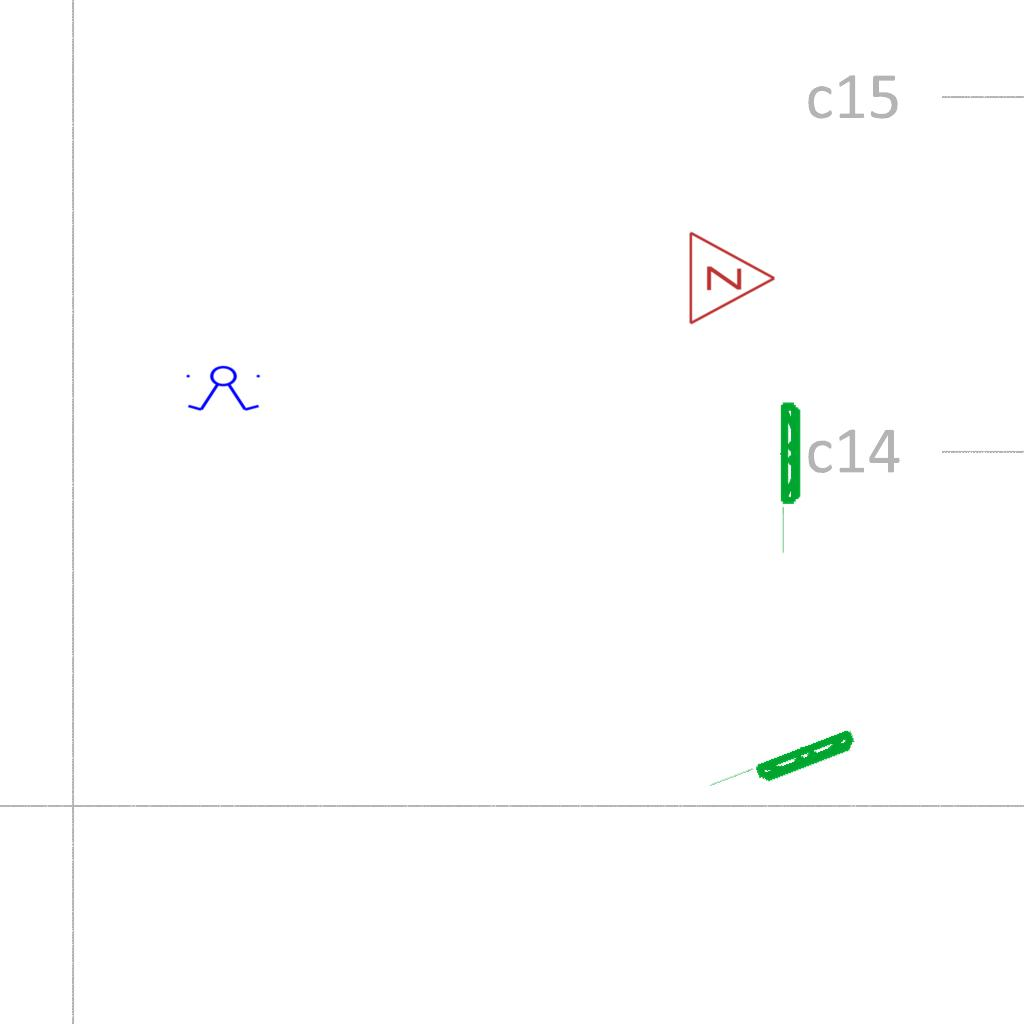Serienschalter: (182, 365, 266, 413)
Sicherheitsleuchte_Wandeinbau: (703, 726, 862, 807), (779, 399, 804, 558)
Zimmersignalleuchte: (682, 228, 782, 326)
